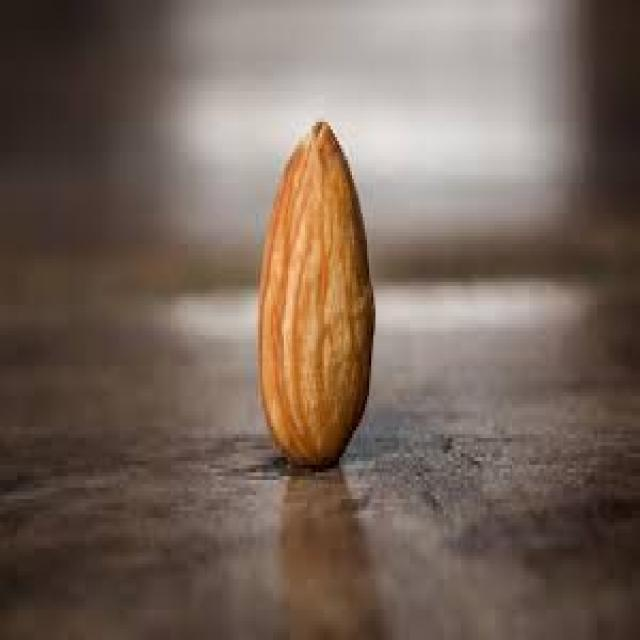almond: (257, 117, 375, 470)
